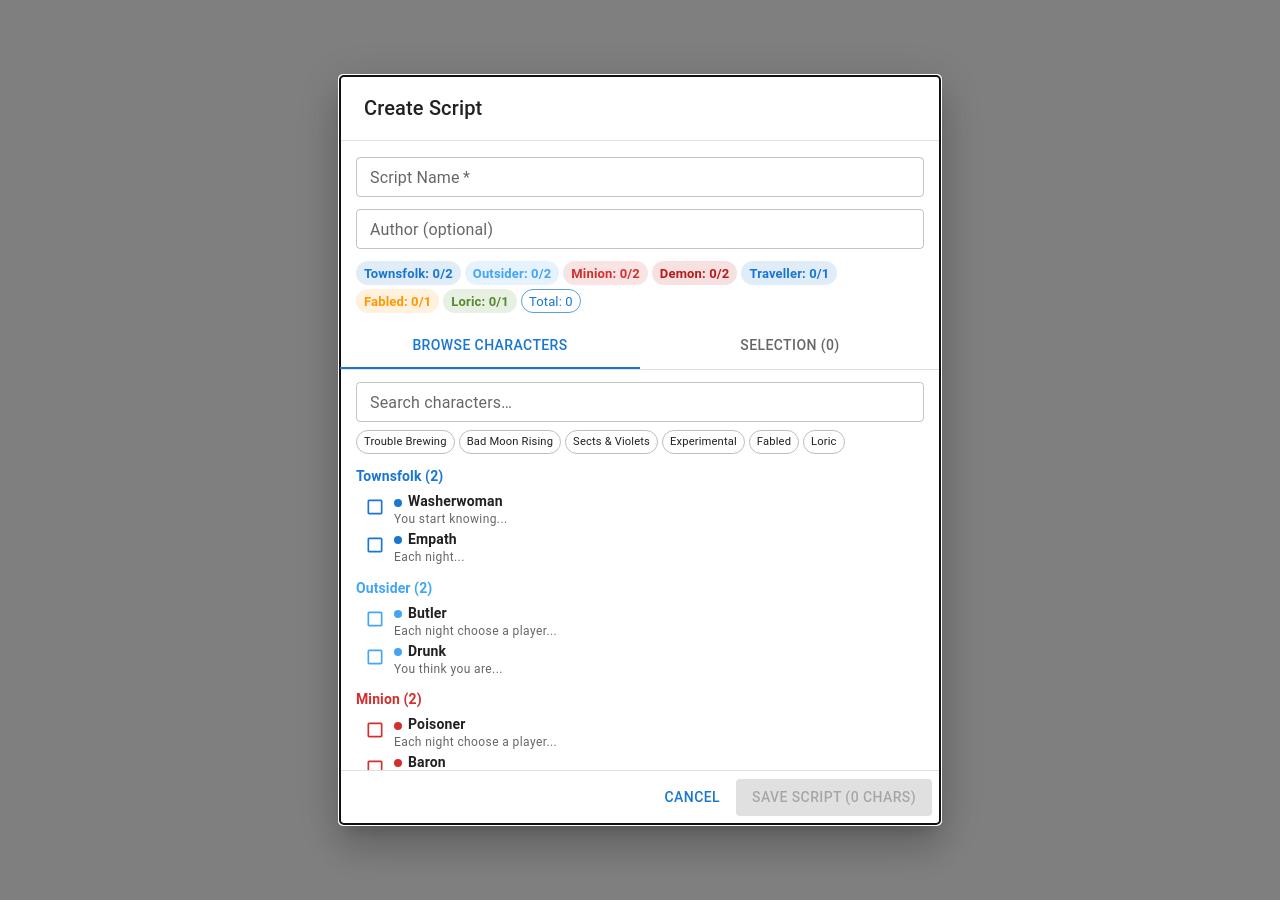
Scenario: ScriptBuilder › save button is enabled when name is filled and characters are selected
This screenshot has width=1280, height=900.
Step 1. Type "My Script" into the field labelled "Script Name *" → (640, 177), box [356,157,924,197]
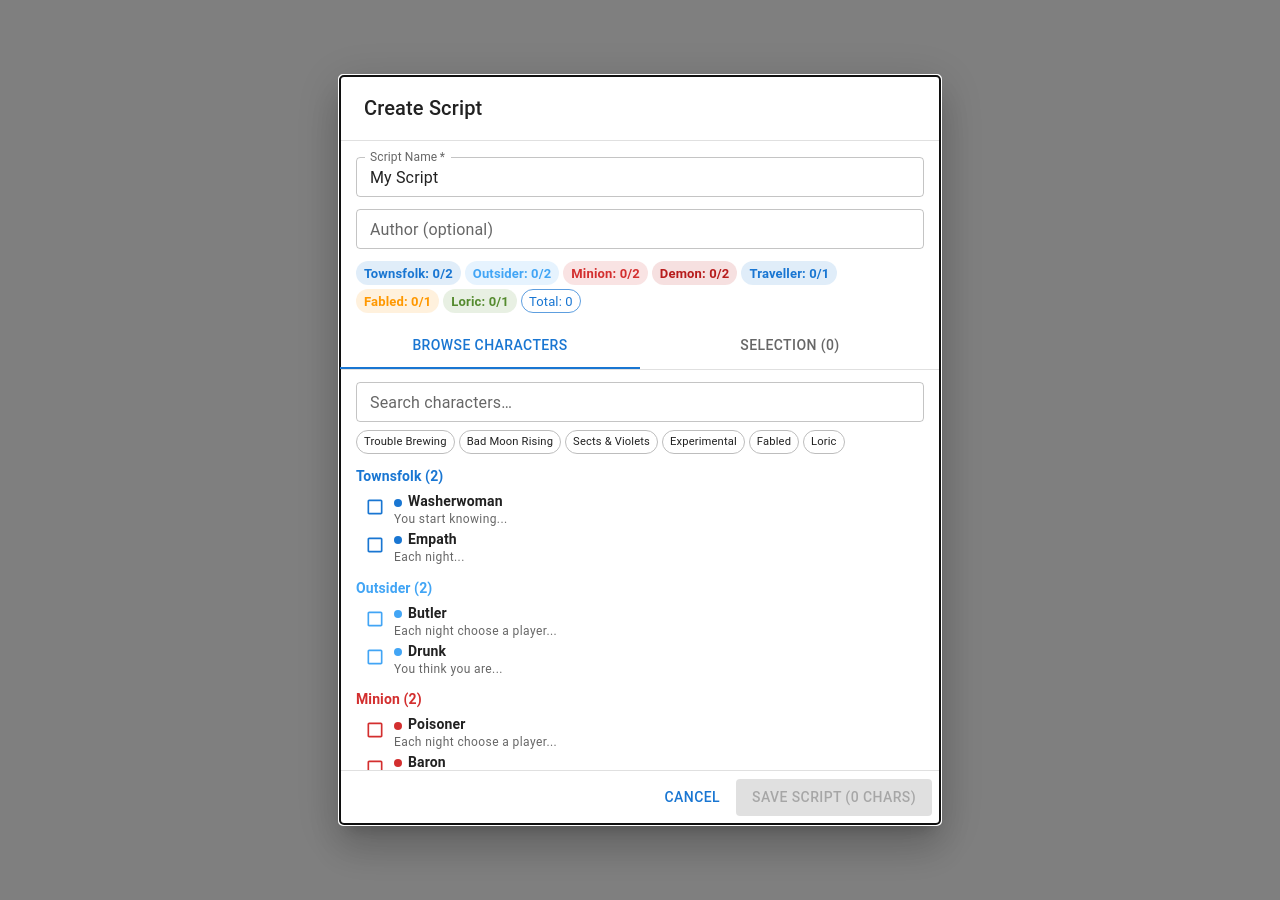
Step 2. Click the checkbox labelled "Washerwoman You start knowing..." → (436, 510), box [365,493,508,526]
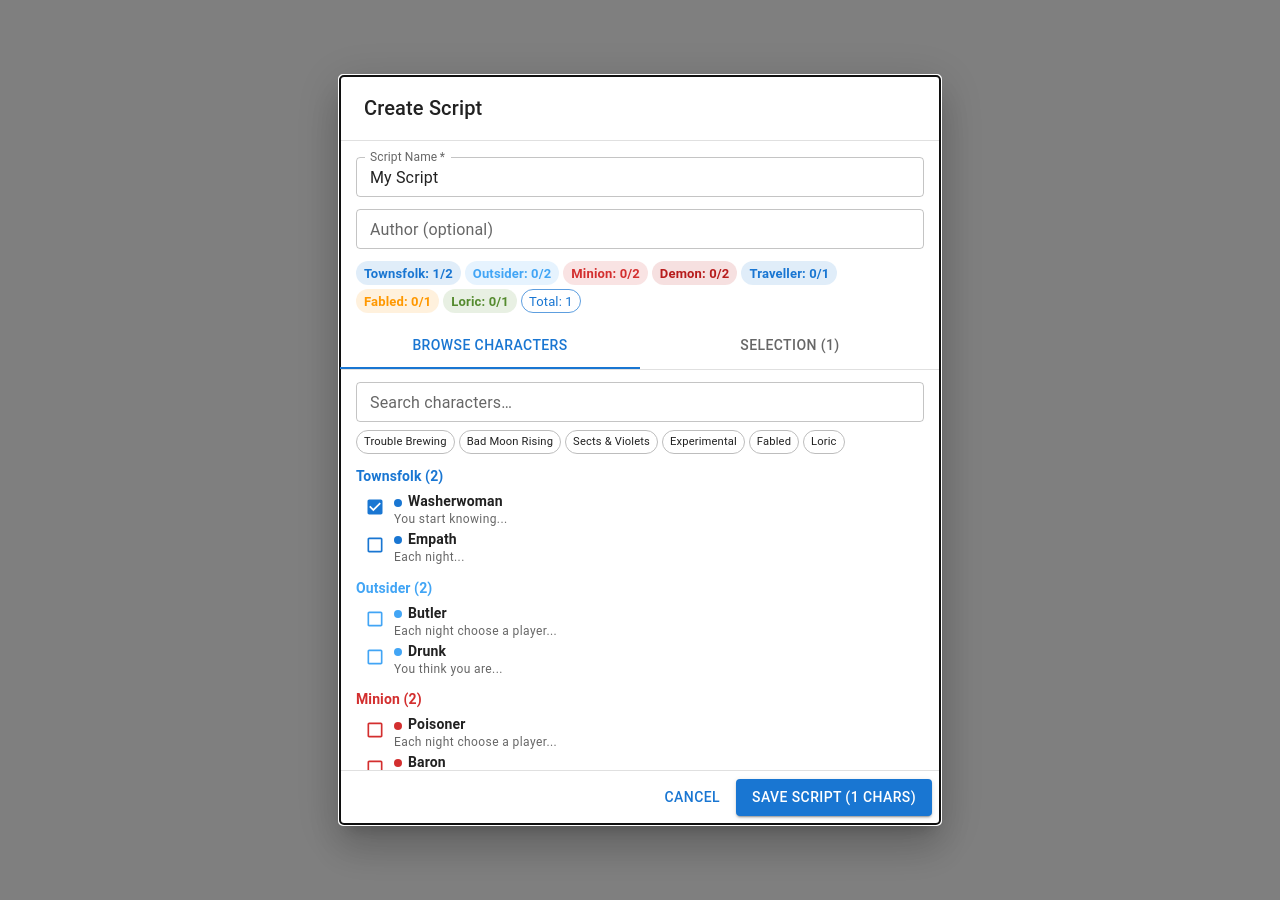
Expected: the button "Save Script (1 chars)" is enabled, [736,779,932,816]
